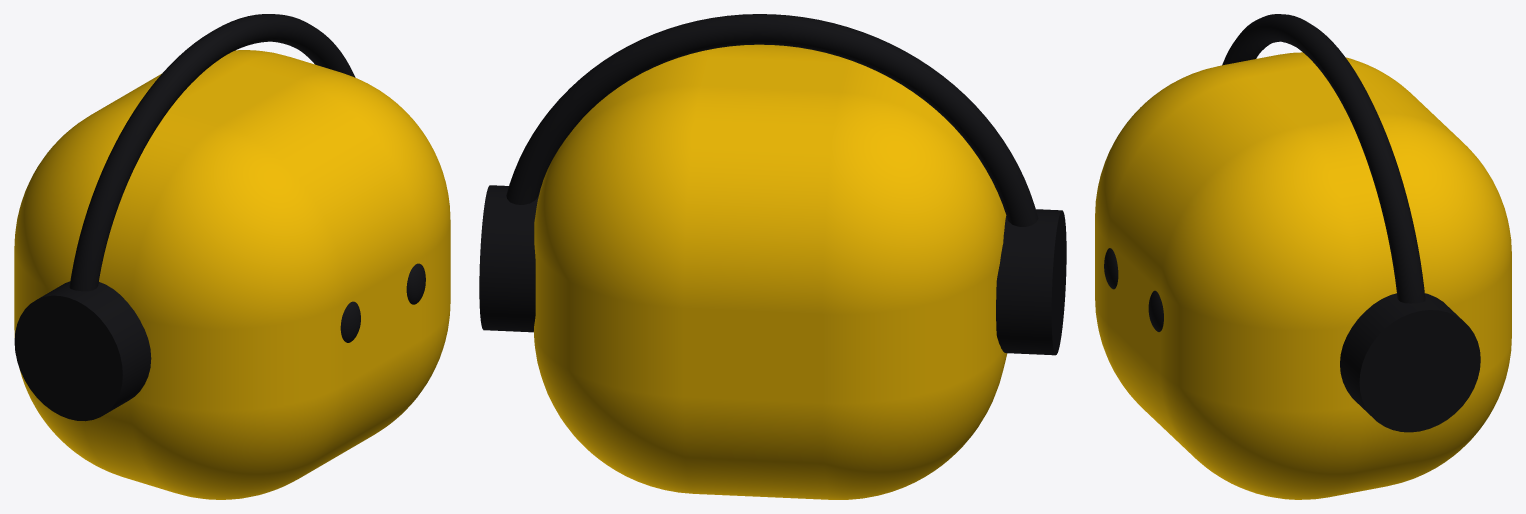
The model's file is max.glb.
3 renders of one model, left to right at view 1: azimuth 30°, elevation 25°; view 2: azimuth 150°, elevation 25°; view 3: azimuth 270°, elevation 25°, orthographic. The views are drawn at different scales.
Parts seen in each view (by area): view 1: shape, cupL, band, bead (×2); view 2: shape, band, cupL, cupR; view 3: shape, cupR, band, bead (×2).
Part boxes in pixels (left/top/right/bottom): shape: left=14, top=50, right=450, bottom=499; cupL: left=14, top=281, right=151, bottom=421; band: left=69, top=14, right=355, bottom=291; bead (×2): left=340, top=263, right=425, bottom=342; shape: left=533, top=44, right=1007, bottom=499; band: left=506, top=14, right=1038, bottom=226; cupL: left=996, top=209, right=1066, bottom=355; cupR: left=479, top=185, right=540, bottom=332; shape: left=1095, top=52, right=1511, bottom=499; cupR: left=1340, top=293, right=1480, bottom=432; band: left=1222, top=14, right=1425, bottom=303; bead (×2): left=1104, top=248, right=1163, bottom=331.
Size of the model in its own units: 2.09 by 1.81 by 1.63.
